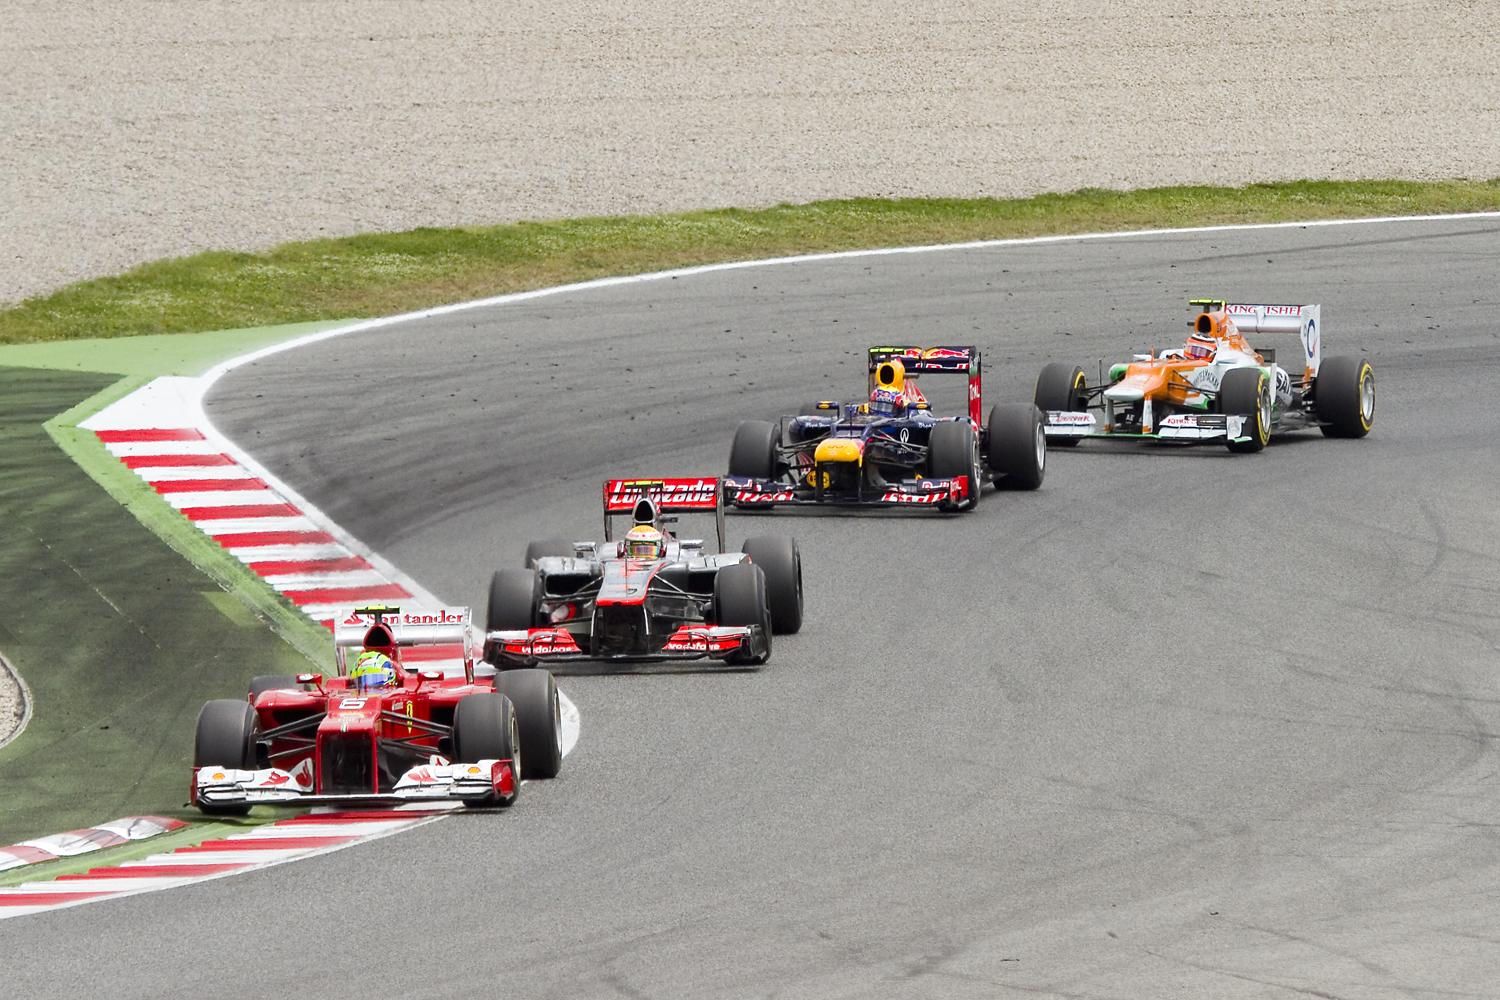race car: (180, 605, 571, 828), (475, 473, 809, 677), (719, 343, 1050, 519), (1032, 298, 1378, 461)
